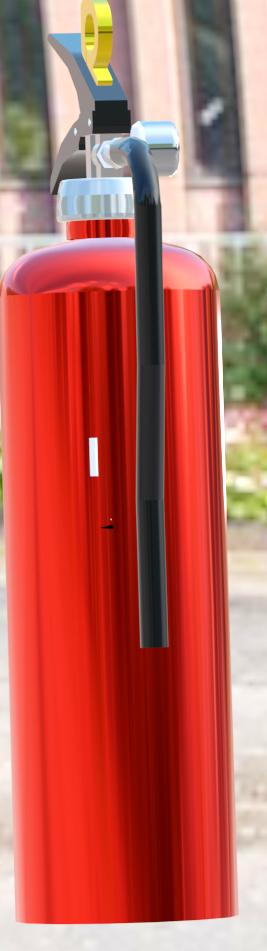fire_extinguisher: (0, 1, 267, 951)
